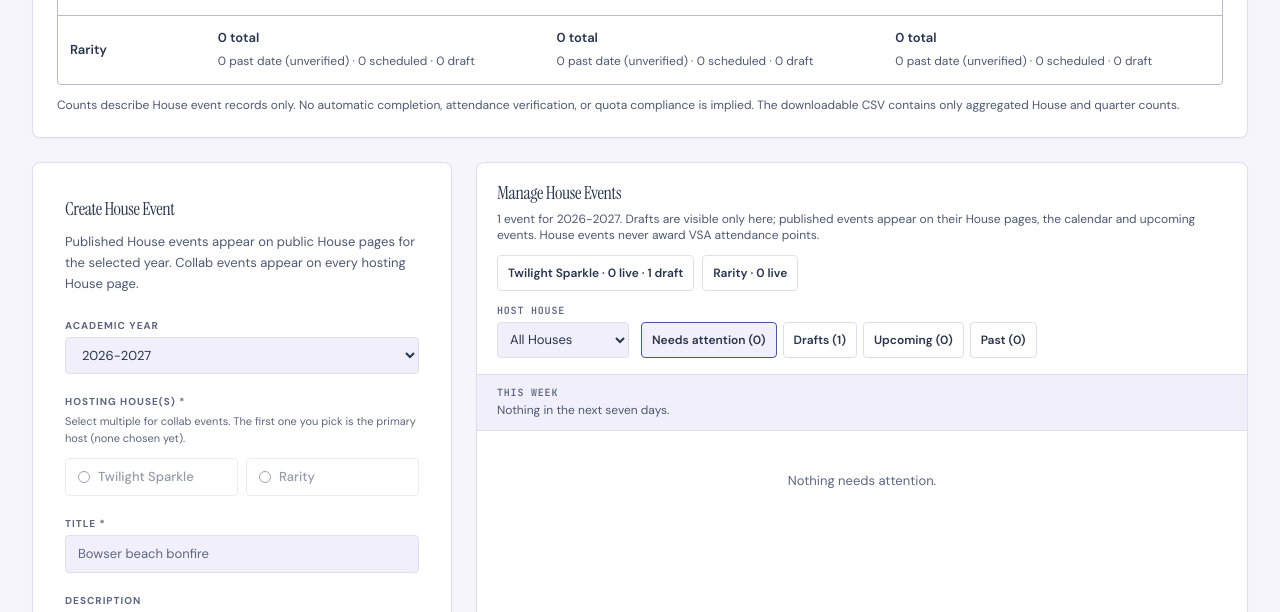
Test: previews a draft as its public card and says the public cannot see it
(page scrolled)
Click the button "Drafts (1)" at x=820, y=340, box [783, 322, 857, 358]
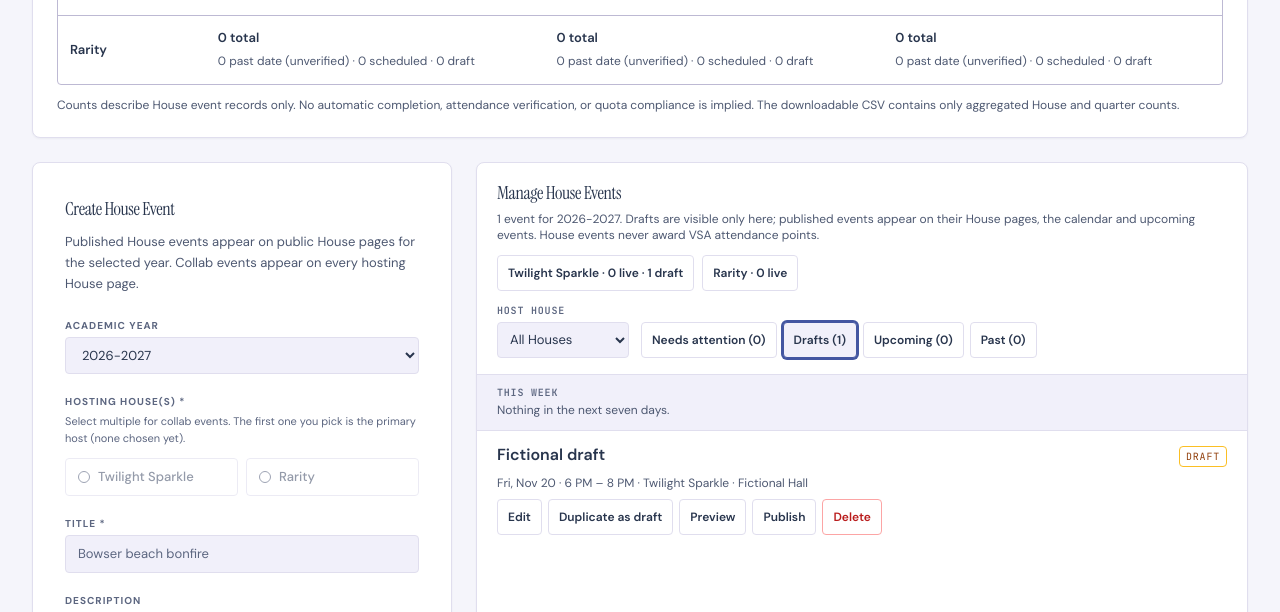
Click the button with aria-label "Preview Fictional draft" at x=713, y=517, box [679, 499, 746, 535]
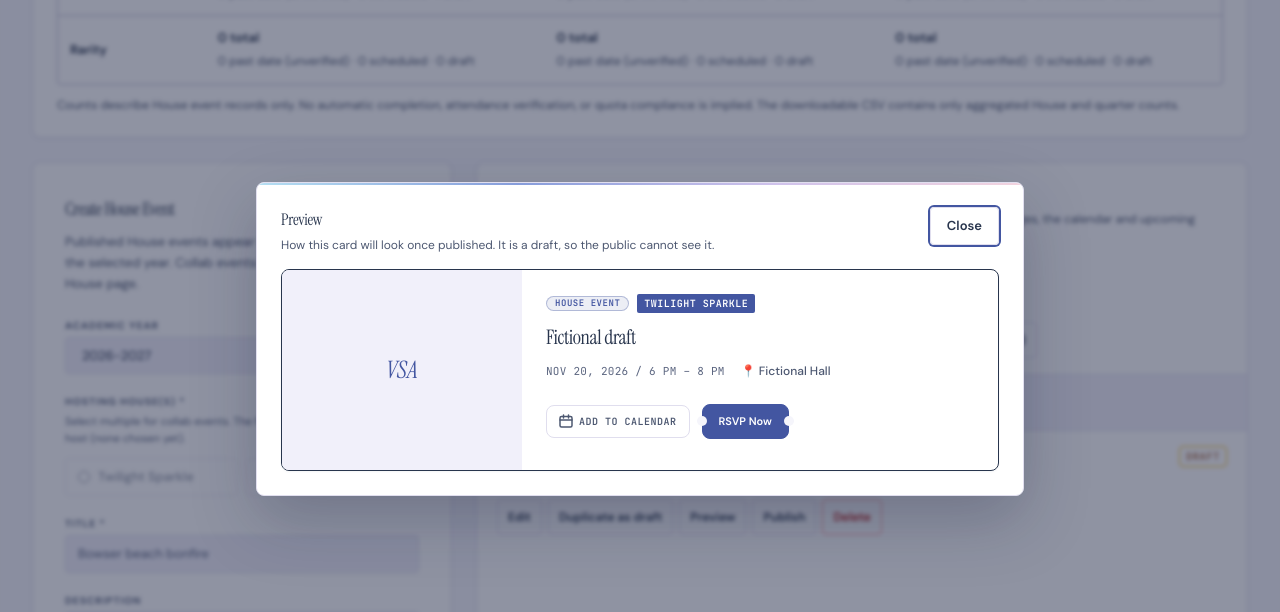
Result: the text "the public cannot see it" is shown at [281, 237, 714, 253]
Result: the heading "Fictional draft" is shown at [546, 324, 636, 350]
